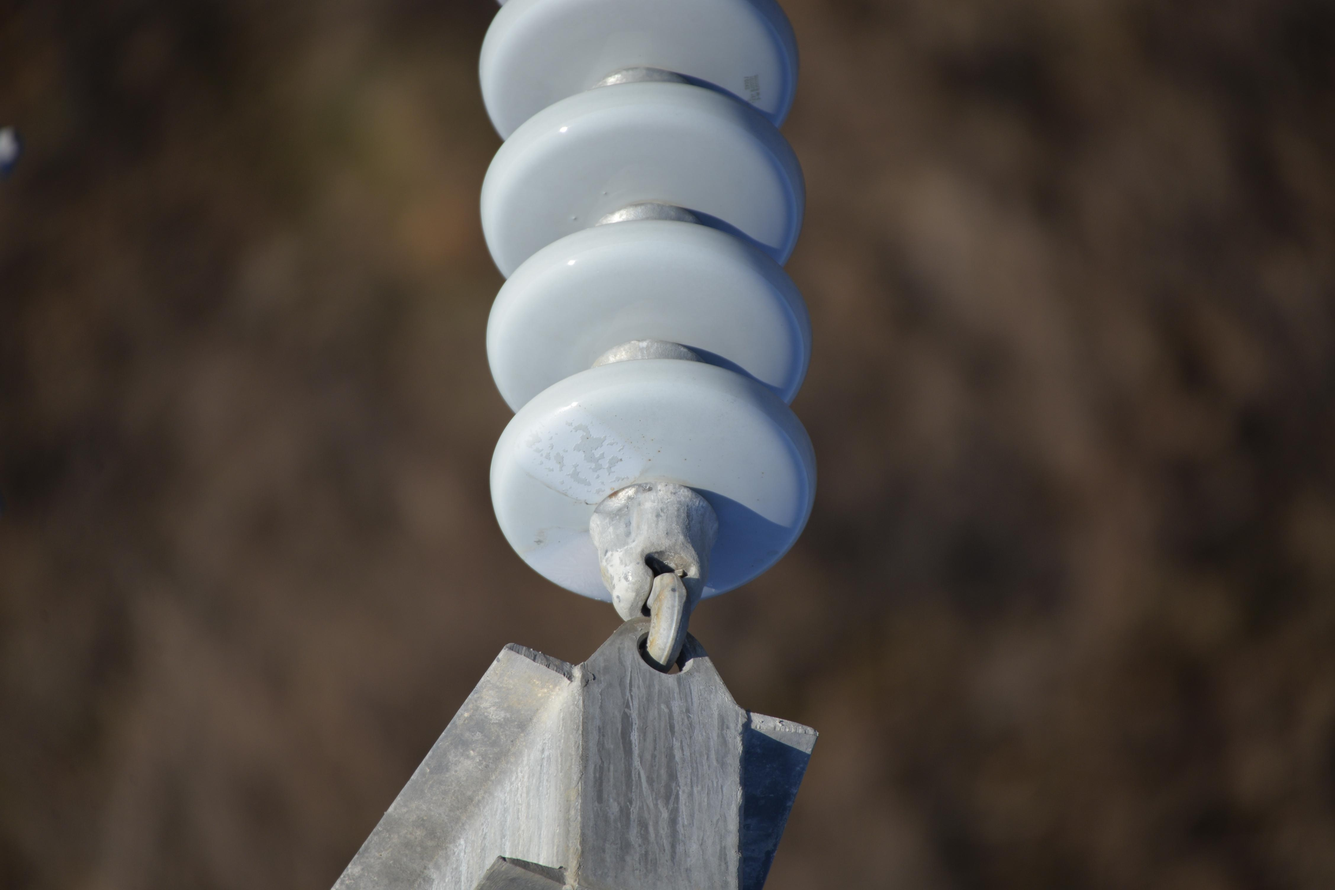Flashover: (516, 401, 655, 507)
insulator: (473, 0, 814, 584)
